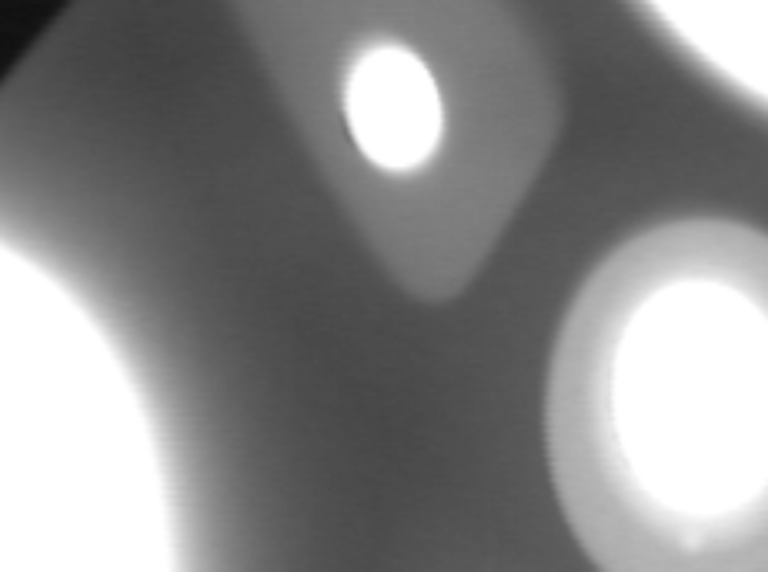defect: (681, 519, 715, 560)
